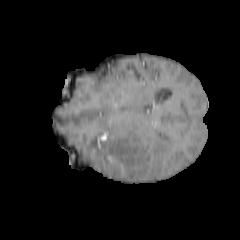glioma: (86, 122, 175, 180)
